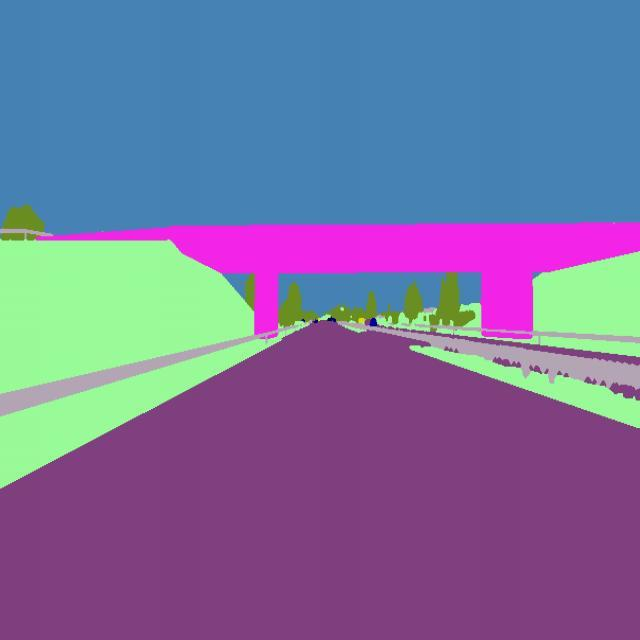safe: (366, 314, 380, 330)
